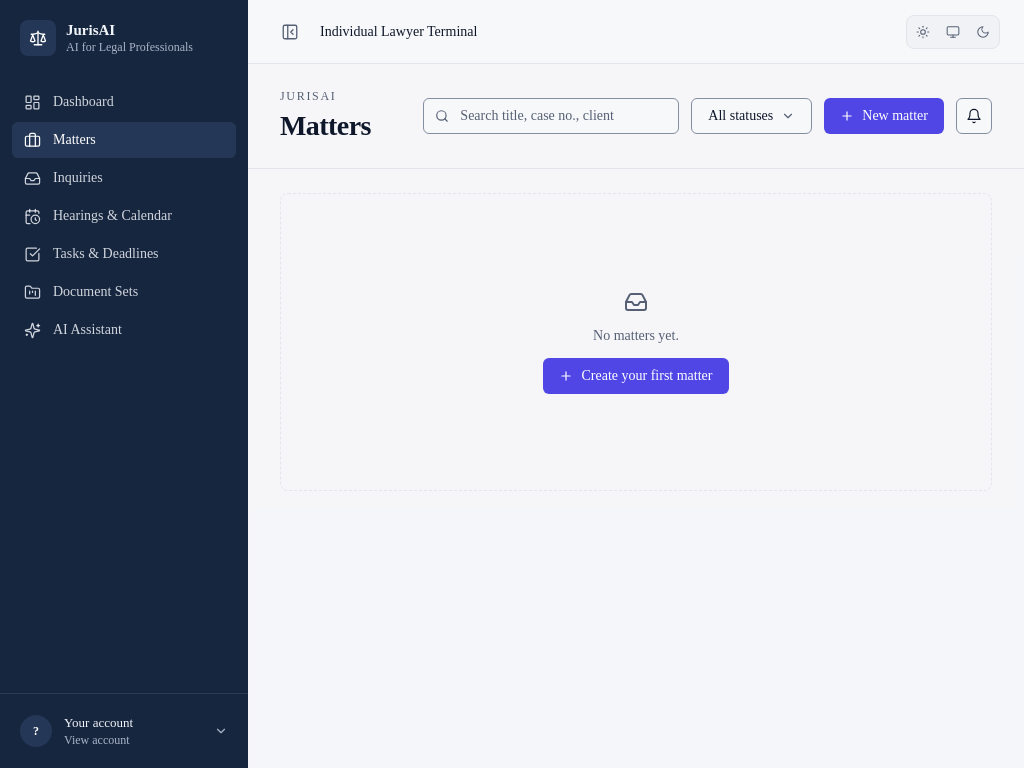
Test case: lawyer matters page › opens New matter as a dialog and validates an empty title
Step 1. Click the button "New matter" → [884, 116], box [824,98,944,134]
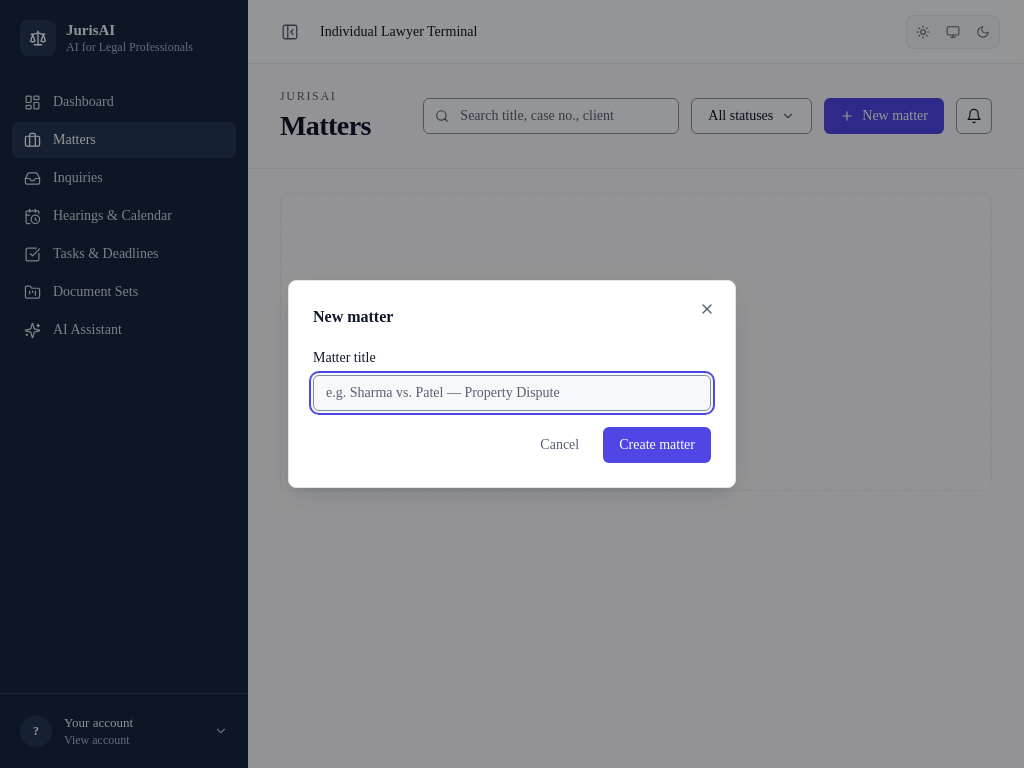
expect the dialog is shown: met, box [288,280,736,488]
Step 2. Click the button "Create matter" → [657, 445], box [603,427,711,463]
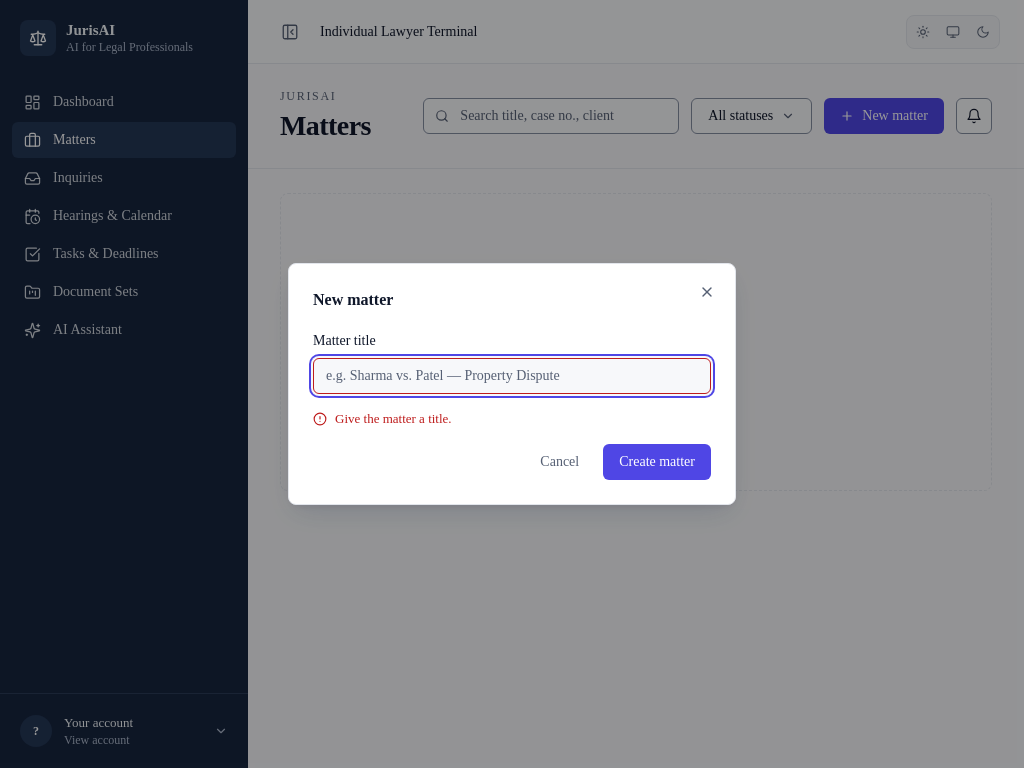
expect the message reads "Give the matter a title.": met, box [335,411,452,426]
